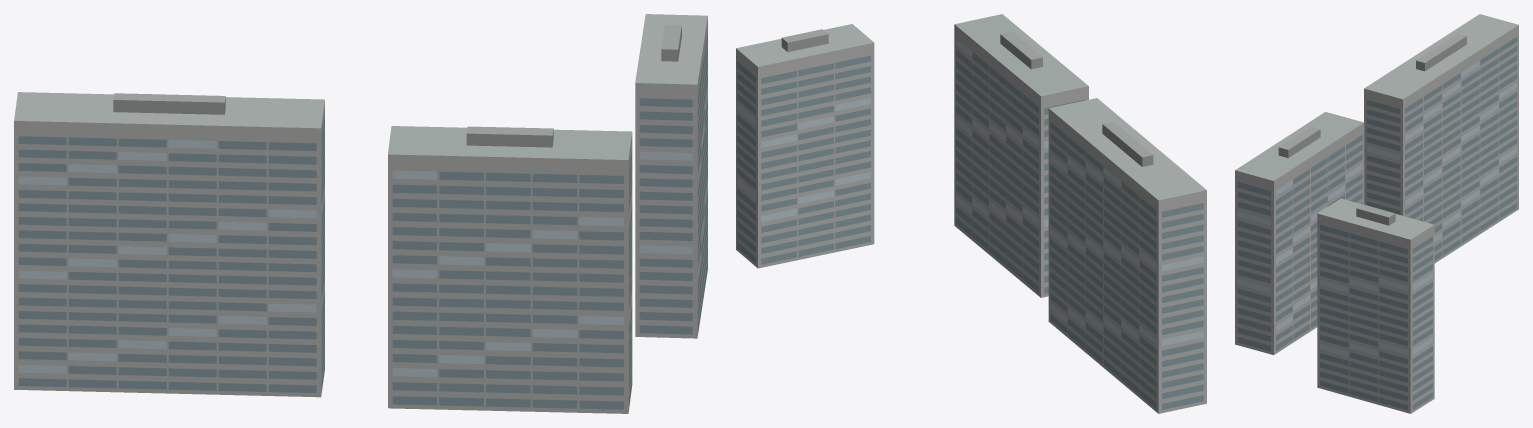
Rendered from apt-a15005401.glb.
The picture shows the model from 3 angles, left to right: view 1: azimuth 30°, elevation 25°; view 2: azimuth 150°, elevation 25°; view 3: azimuth 270°, elevation 25°; orthographic projection. The views are drawn at different scales.
Parts seen in each view (by area): view 1: apt-a15005401; view 2: apt-a15005401; view 3: apt-a15005401.
Part boxes in pixels (x1=…): apt-a15005401: x1=14, y1=14, x2=707, y2=413; apt-a15005401: x1=736, y1=14, x2=1206, y2=413; apt-a15005401: x1=1235, y1=14, x2=1518, y2=413.
Size of the model in its own units: 132 by 55 by 73.36.
